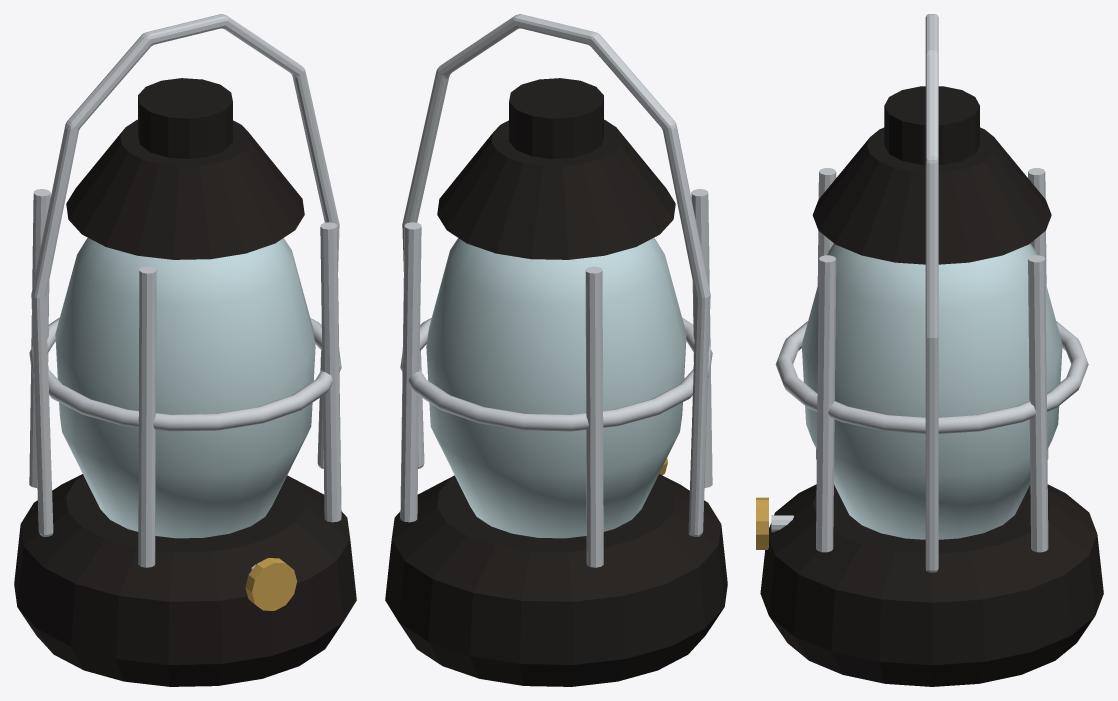
The model's file is hh_cat_lantern.glb.
The picture shows the model from 3 angles, left to right: view 1: azimuth 30°, elevation 25°; view 2: azimuth 150°, elevation 25°; view 3: azimuth 270°, elevation 25°; orthographic projection.
Parts seen in each view (by area): view 1: globe, fount, lantern_cap, bail, chimney, guard_ring, guard.002, guard.003, wick_knob, guard.001; view 2: globe, fount, lantern_cap, bail, chimney, guard_ring, guard.001, guard, guard.002; view 3: globe, fount, lantern_cap, bail, guard_ring, chimney, guard.003, guard, guard.001, guard.002, wick_knob.
Part boxes in pixels (box(x1,y1,x2,y2)): globe: box(55, 238, 315, 538); fount: box(14, 474, 356, 686); lantern_cap: box(66, 119, 304, 259); bail: box(31, 14, 339, 536); chimney: box(138, 78, 232, 158); guard_ring: box(29, 317, 341, 431); guard.002: box(138, 266, 156, 567); guard.003: box(320, 222, 341, 522); wick_knob: box(245, 558, 296, 610); guard.001: box(29, 189, 50, 487); globe: box(426, 238, 686, 538); fount: box(385, 474, 727, 686); lantern_cap: box(437, 119, 675, 259); bail: box(402, 14, 710, 536); chimney: box(509, 78, 603, 158); guard_ring: box(400, 317, 712, 431); guard.001: box(585, 266, 603, 567); guard: box(400, 222, 421, 522); guard.002: box(691, 189, 712, 487); globe: box(801, 243, 1062, 539); fount: box(760, 484, 1103, 686); lantern_cap: box(812, 127, 1051, 264); bail: box(925, 14, 938, 572); guard_ring: box(775, 321, 1088, 433); chimney: box(884, 86, 979, 164); guard.003: box(816, 255, 836, 552); guard: box(1028, 255, 1048, 552); guard.001: box(1028, 168, 1048, 459); guard.002: box(816, 168, 836, 459); wick_knob: box(756, 497, 768, 549).
Bounding box in the file's own units: 0.16 × 0.3 × 0.16.
